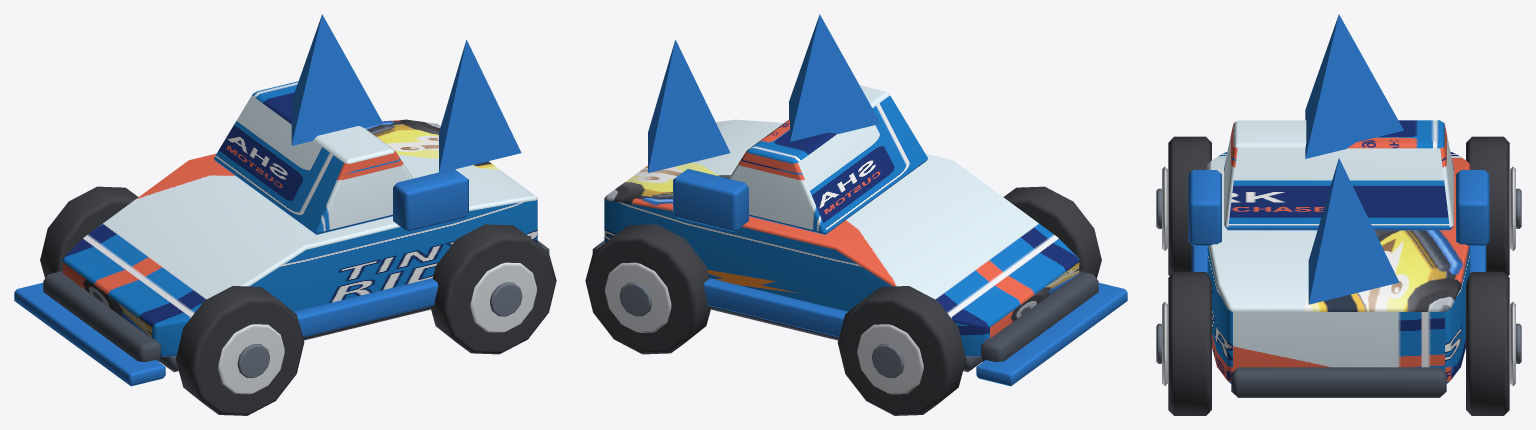
The picture shows the model from 3 angles, left to right: view 1: azimuth 30°, elevation 25°; view 2: azimuth 150°, elevation 25°; view 3: azimuth 270°, elevation 25°; orthographic projection. The views are drawn at different scales.
Visible parts, largest first — view 1: CR-01_connected_shell, CR-01_cabin, Tire, Tire.002, dorsal fin, shark tail upper fin, custom chin, custom side guard, custom side fin, Tire.001, front bumper, Rim (+4 smaller); view 2: CR-01_connected_shell, CR-01_cabin, Tire.001, Tire.003, dorsal fin, shark tail upper fin, custom chin, custom side guard.001, custom side fin.001, Tire, front bumper, Rim.001 (+4 smaller); view 3: CR-01_connected_shell, CR-01_cabin, dorsal fin, shark tail upper fin, rear bumper, Tire.002, Tire.003, Tire, Tire.001, custom side fin, custom side fin.001, Rim (+5 smaller).
Boxes of the visible parts, x1=… form: CR-01_connected_shell: x1=62, y1=119, x2=537, y2=356; CR-01_cabin: x1=214, y1=81, x2=412, y2=234; Tire: x1=175, y1=286, x2=304, y2=415; Tire.002: x1=430, y1=224, x2=556, y2=354; dorsal fin: x1=291, y1=14, x2=383, y2=145; shark tail upper fin: x1=439, y1=39, x2=521, y2=172; custom chin: x1=14, y1=283, x2=165, y2=386; custom side guard: x1=294, y1=278, x2=438, y2=337; custom side fin: x1=393, y1=169, x2=468, y2=231; Tire.001: x1=40, y1=186, x2=138, y2=278; front bumper: x1=43, y1=271, x2=161, y2=361; Rim: x1=218, y1=324, x2=284, y2=394; CR-01_connected_shell: x1=604, y1=119, x2=1079, y2=356; CR-01_cabin: x1=729, y1=85, x2=927, y2=234; Tire.001: x1=837, y1=286, x2=966, y2=415; Tire.003: x1=585, y1=224, x2=711, y2=354; dorsal fin: x1=789, y1=14, x2=880, y2=141; shark tail upper fin: x1=648, y1=39, x2=730, y2=172; custom chin: x1=976, y1=283, x2=1127, y2=386; custom side guard.001: x1=703, y1=278, x2=847, y2=337; custom side fin.001: x1=673, y1=169, x2=748, y2=231; Tire: x1=1003, y1=186, x2=1101, y2=278; front bumper: x1=980, y1=271, x2=1098, y2=361; Rim.001: x1=857, y1=324, x2=923, y2=394; CR-01_connected_shell: x1=1207, y1=152, x2=1470, y2=383; CR-01_cabin: x1=1224, y1=120, x2=1453, y2=230; dorsal fin: x1=1305, y1=14, x2=1403, y2=158; shark tail upper fin: x1=1308, y1=158, x2=1399, y2=304; rear bumper: x1=1231, y1=367, x2=1446, y2=397; Tire.002: x1=1168, y1=272, x2=1211, y2=415; Tire.003: x1=1466, y1=272, x2=1509, y2=415; Tire: x1=1168, y1=136, x2=1211, y2=275; Tire.001: x1=1466, y1=136, x2=1509, y2=275; custom side fin: x1=1188, y1=170, x2=1221, y2=246; custom side fin.001: x1=1456, y1=170, x2=1489, y2=246; Rim: x1=1162, y1=166, x2=1167, y2=250.
Size of the model in its own units: 329 by 224 by 217.
